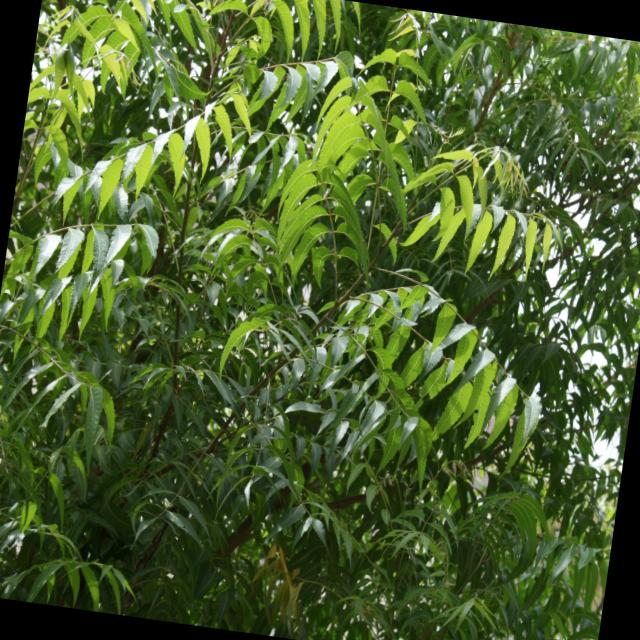Medicinal-Neem: (9, 0, 594, 488)
